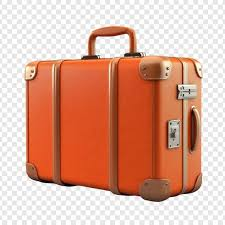suitcase: (22, 26, 205, 203)
